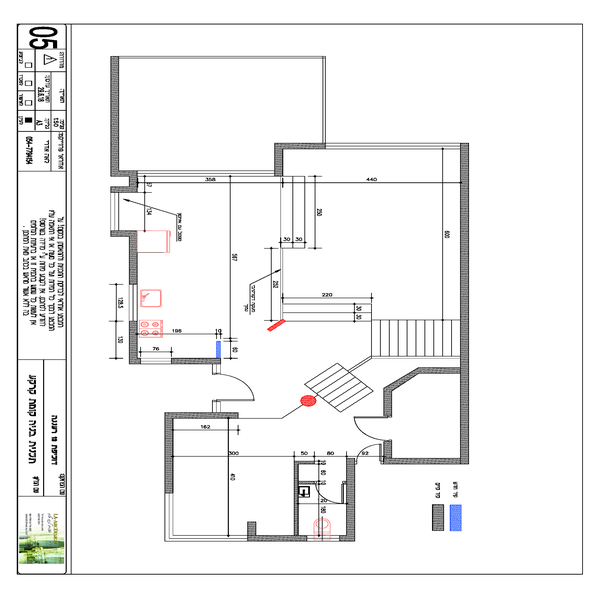door: (352, 410, 397, 442), (214, 373, 259, 404), (308, 479, 347, 509), (356, 439, 379, 470)
wall: (458, 144, 471, 466), (110, 54, 121, 176), (164, 409, 179, 495), (381, 456, 467, 467), (348, 454, 358, 542), (168, 354, 226, 368), (169, 411, 237, 422), (129, 226, 139, 288), (273, 143, 287, 180), (278, 143, 324, 152), (128, 321, 137, 364), (420, 369, 457, 378)
